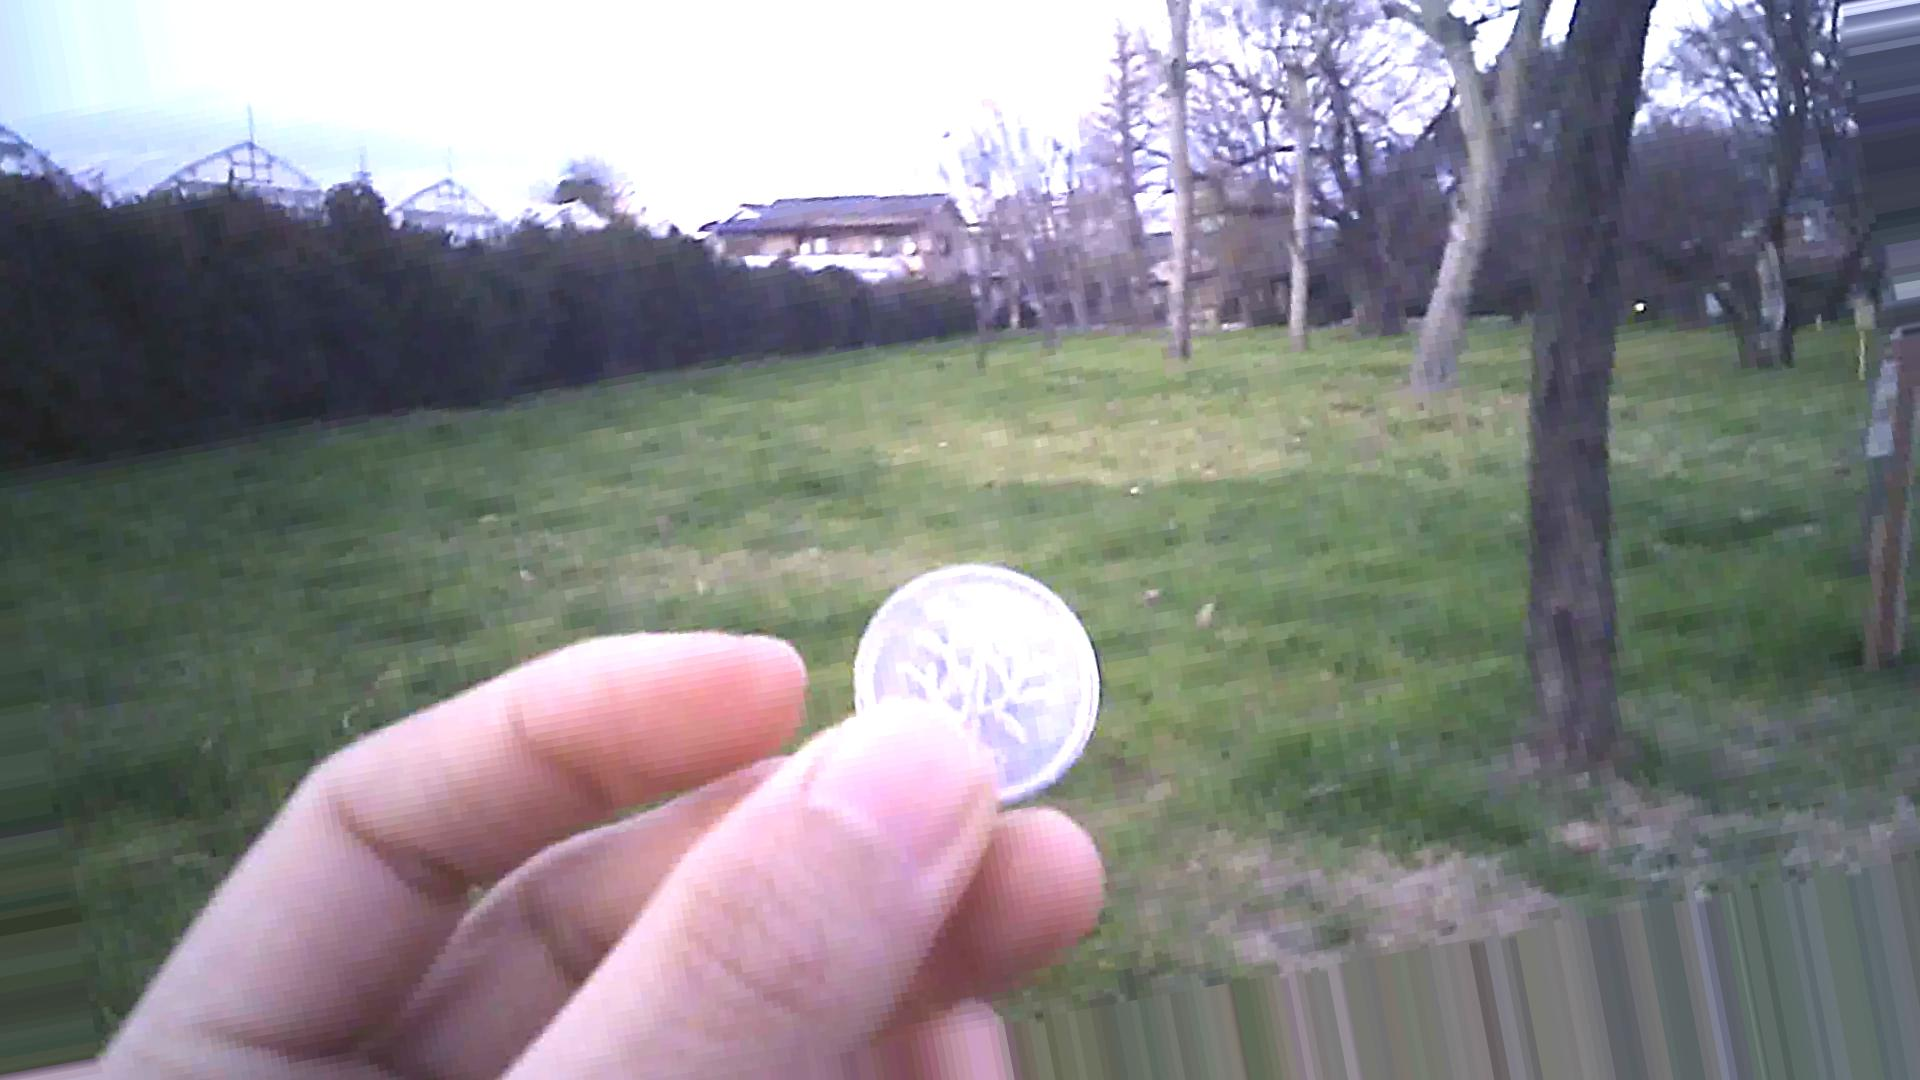1 Yen: (840, 547, 1105, 808)
